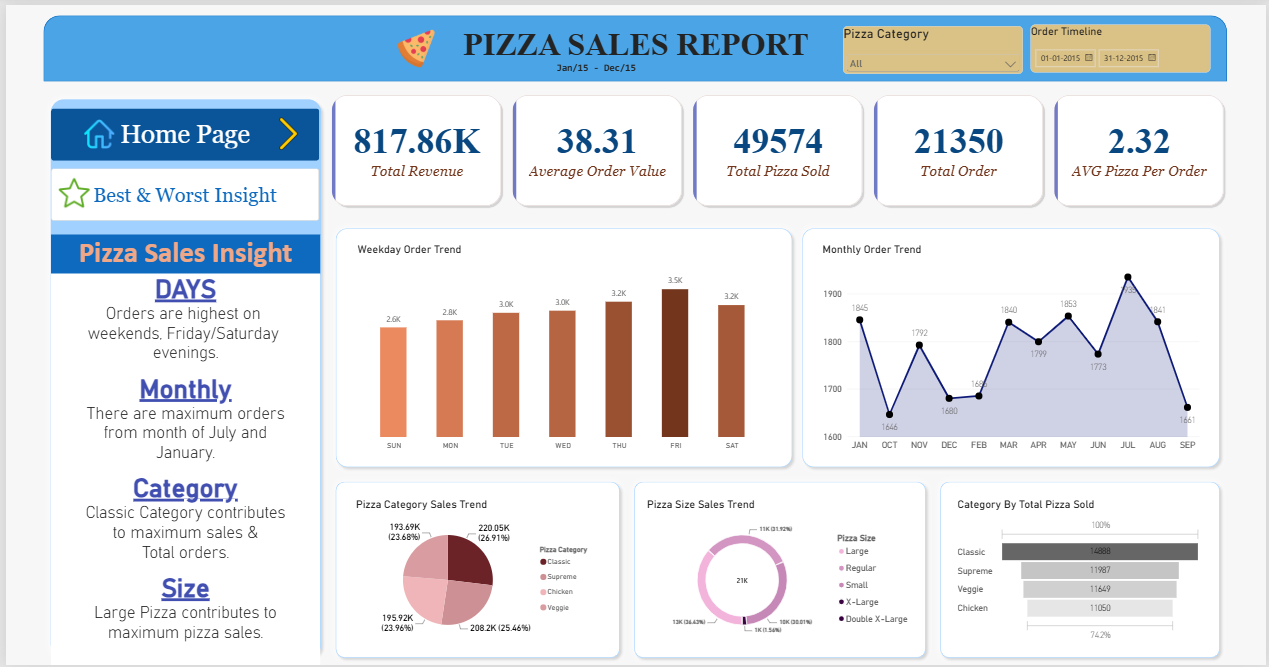

Layout of this report page (visuals, bound fields, positions):
{"tool":"powerbi","page":{"name":"Home Page","canvas":[2100,1100],"ordinal":0},"visuals":[{"type":"cardVisual","fields":{"Data":["pizza_sales pizza_sales.Total Revenue","pizza_sales pizza_sales.Average Order Value","pizza_sales pizza_sales.Total Pizza Sold","pizza_sales pizza_sales.Total Order","pizza_sales pizza_sales.AVG Pizza Per Order"]},"box":[537.5,145,1497.5,195],"z":0},{"type":"shape","box":[62.5,17.5,1972.5,110],"z":1000},{"type":"textbox","box":[667.5,35,765,92.5],"z":2000},{"type":"textbox","box":[917.5,95,133.3,20],"z":3000},{"type":"image","box":[600,40,167.5,65],"z":4000},{"type":"shape","box":[537.5,360,785,422.5],"z":5000},{"type":"columnChart","title":"Weekday Order Trend","fields":{"Category":["pizza_sales pizza_sales.Order Day"],"Y":["pizza_sales pizza_sales.Total Order"]},"box":[570,382.5,717.5,377.5],"z":6000},{"type":"shape","box":[1315,360,720,422.5],"z":7000},{"type":"areaChart","title":"Monthly Order Trend","fields":{"Category":["pizza_sales pizza_sales.Order Month"],"Y":["pizza_sales pizza_sales.Total Order"]},"box":[1345,382.5,660,377.5],"z":8000},{"type":"shape","box":[537.5,782.5,497.5,317.5],"z":9000},{"type":"shape","box":[1035,782.5,510,317.5],"z":10000},{"type":"shape","box":[1545,782.5,490,317.5],"z":11000},{"type":"donutChart","title":"Pizza Category Sales Trend","fields":{"Category":["pizza_sales pizza_sales.pizza_category"],"Y":["pizza_sales pizza_sales.Total Revenue"]},"box":[567.5,807.5,440,267.5],"z":12000},{"type":"donutChart","title":"Pizza Size Sales Trend","fields":{"Category":["pizza_sales pizza_sales.pizza_size"],"Y":["pizza_sales pizza_sales.Total Order"]},"box":[1052.5,807.5,475,267.5],"z":13000},{"type":"funnel","title":"Category By Total Pizza Sold","fields":{"Category":["pizza_sales pizza_sales.pizza_category"],"Y":["pizza_sales pizza_sales.Total Pizza Sold"]},"box":[1570,807.5,437.5,267.5],"z":14000},{"type":"shape","box":[62.5,145,475,955],"z":15000},{"type":"textbox","box":[74.3,382.9,448.6,65.7],"z":16000},{"type":"textbox","box":[75,447.1,448.5,652.9],"z":17000},{"type":"slicer","title":"Pizza Category","fields":{"Values":["pizza_sales pizza_sales.pizza_category"]},"box":[1395,35,300,80],"z":17001},{"type":"slicer","title":"Order Timeline","fields":{"Values":["pizza_sales pizza_sales.order_date"]},"box":[1707.5,32.5,300,80],"z":17002},{"type":"pageNavigator","box":[75,272.5,447.5,87.5],"z":17004},{"type":"pageNavigator","box":[75.7,171.4,447.5,87.5],"z":17005},{"type":"image","box":[401.5,187.7,136.9,53.8],"z":17006},{"type":"image","box":[122,189,65.9,50],"z":17007},{"type":"image","box":[80.7,288.6,67.1,51.4],"z":17008}]}

Visuals, with their boxes in screenshot pixels (x1, y1, x2, y2), scaled from the page's 2100x1100 canvas onto the 1269x667 screenshot:
cardVisual - pizza_sales pizza_sales.Total Revenue x pizza_sales pizza_sales.Average Order Value: [x1=325, y1=88, x2=1230, y2=206]
shape: [x1=38, y1=11, x2=1230, y2=77]
textbox: [x1=403, y1=21, x2=866, y2=77]
textbox: [x1=554, y1=58, x2=635, y2=70]
image: [x1=363, y1=24, x2=464, y2=64]
shape: [x1=325, y1=218, x2=799, y2=474]
"Weekday Order Trend" columnChart: [x1=344, y1=232, x2=778, y2=461]
shape: [x1=795, y1=218, x2=1230, y2=474]
"Monthly Order Trend" areaChart: [x1=813, y1=232, x2=1212, y2=461]
shape: [x1=325, y1=474, x2=625, y2=666]
shape: [x1=625, y1=474, x2=934, y2=666]
shape: [x1=934, y1=474, x2=1230, y2=666]
"Pizza Category Sales Trend" donutChart: [x1=343, y1=490, x2=609, y2=652]
"Pizza Size Sales Trend" donutChart: [x1=636, y1=490, x2=923, y2=652]
"Category By Total Pizza Sold" funnel: [x1=949, y1=490, x2=1213, y2=652]
shape: [x1=38, y1=88, x2=325, y2=666]
textbox: [x1=45, y1=232, x2=316, y2=272]
textbox: [x1=45, y1=271, x2=316, y2=666]
"Pizza Category" slicer: [x1=843, y1=21, x2=1024, y2=70]
"Order Timeline" slicer: [x1=1032, y1=20, x2=1213, y2=68]
pageNavigator: [x1=45, y1=165, x2=316, y2=218]
pageNavigator: [x1=46, y1=104, x2=316, y2=157]
image: [x1=243, y1=114, x2=325, y2=146]
image: [x1=74, y1=115, x2=114, y2=145]
image: [x1=49, y1=175, x2=89, y2=206]
